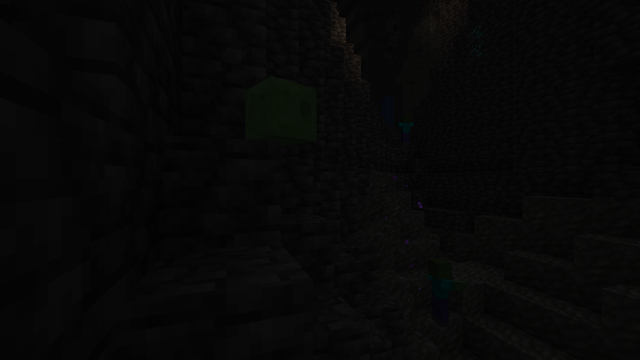slimes: (250, 74, 313, 145)
zombies: (425, 258, 453, 328), (399, 115, 412, 145)
